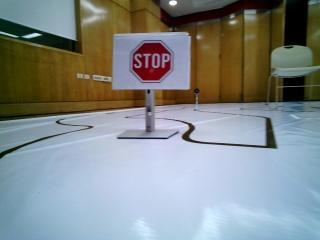stop: (115, 37, 187, 89)
